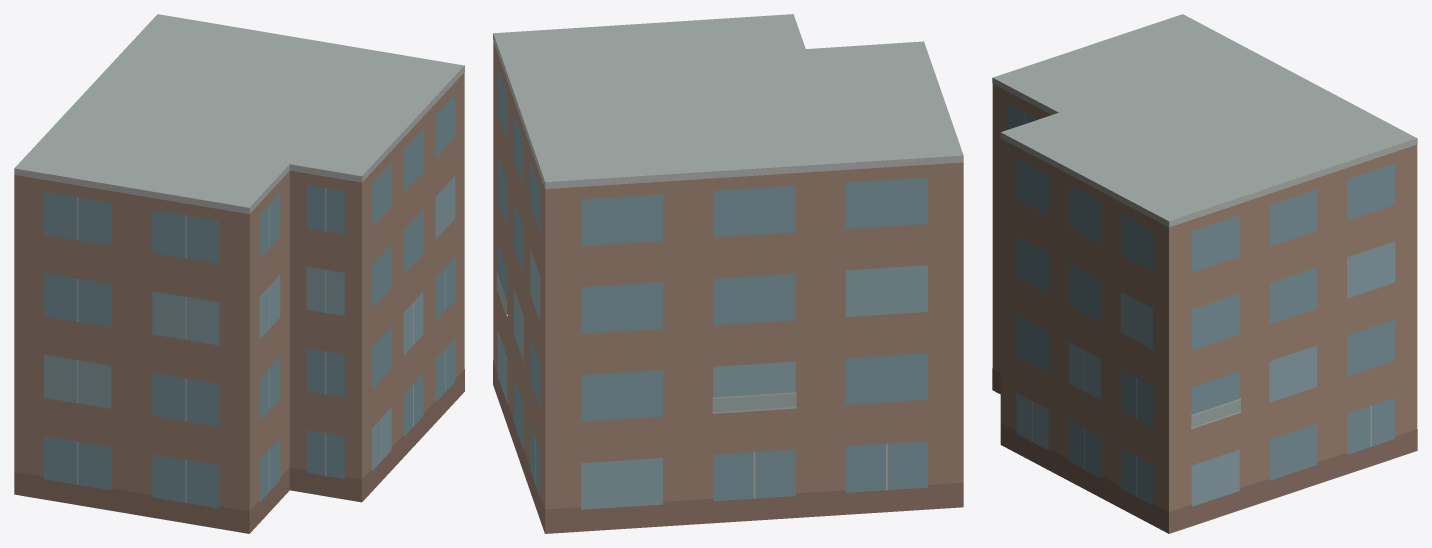
File: survey-upis-32777931.glb
3 renders of one model, left to right at view 1: azimuth 30°, elevation 25°; view 2: azimuth 150°, elevation 25°; view 3: azimuth 270°, elevation 25°, orthographic. The views are drawn at different scales.
Visible parts, largest first — view 1: survey-upis-32777931.tmp; view 2: survey-upis-32777931.tmp; view 3: survey-upis-32777931.tmp.
Boxes of the visible parts, x1,y1,x2,y2 form: survey-upis-32777931.tmp: [14, 14, 464, 533]; survey-upis-32777931.tmp: [493, 14, 963, 533]; survey-upis-32777931.tmp: [992, 14, 1417, 533].
Bounding box in the file's own units: 17.8 × 12.5 × 15.41.
